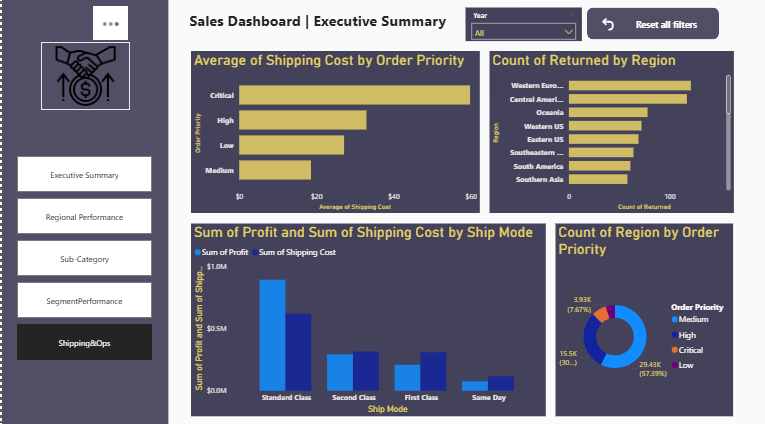

This screenshot's page, from the dashboard's own definition file:
{"tool":"powerbi","page":{"name":"Shipping&Ops","canvas":[1280,720],"ordinal":4},"visuals":[{"type":"shape","box":[975,16.7,220,53.3],"z":0},{"type":"shape","box":[0,0,277.6,1400.7],"z":1000},{"type":"pageNavigator","box":[25.7,264.3,225.7,341.4],"z":2000},{"type":"actionButton","box":[995,25,30,40],"z":3000},{"type":"textbox","box":[308.3,16.7,488.3,73.3],"z":4000},{"type":"textbox","box":[1038.8,31.2,134.8,30.3],"z":5000},{"type":"slicer","fields":{"Values":["Date Table.Year"]},"box":[771.4,18.6,194.3,55.7],"z":6000},{"type":"clusteredColumnChart","fields":{"Category":["Orders.Ship Mode"],"Y":["Sum(Orders.Profit)","Sum(Orders.Shipping Cost)"]},"box":[315.7,378.6,591.4,321.4],"z":7000},{"type":"barChart","fields":{"Y":["Avg(Orders.Shipping Cost)"],"Category":["Orders.Order Priority"]},"box":[315.7,90,481.4,270],"z":8000},{"type":"clusteredBarChart","fields":{"Category":["Returns.Region"],"Y":["CountNonNull(Returns.Returned)"]},"box":[811.4,90,407.1,270],"z":9000},{"type":"donutChart","fields":{"Category":["Orders.Order Priority"],"Y":["CountNonNull(Orders.Region)"]},"box":[922.9,378.6,295.7,321.4],"z":10000},{"type":"image","box":[64.3,75.7,148.6,112.9],"z":11000}]}

Visuals, with their boxes in screenshot pixels (x1, y1, x2, y2):
shape: region(586, 4, 718, 36)
shape: region(0, 0, 165, 423)
pageNavigator: region(13, 153, 149, 359)
actionButton: region(598, 9, 616, 33)
textbox: region(184, 4, 478, 48)
textbox: region(624, 13, 705, 31)
slicer - Date Table.Year: region(463, 5, 580, 39)
clusteredColumnChart - Orders.Ship Mode x Sum(Orders.Profit): region(188, 222, 545, 416)
barChart - Avg(Orders.Shipping Cost) x Orders.Order Priority: region(188, 48, 478, 211)
clusteredBarChart - Returns.Region x CountNonNull(Returns.Returned): region(487, 48, 732, 211)
donutChart - Orders.Order Priority x CountNonNull(Orders.Region): region(554, 222, 732, 416)
image: region(37, 40, 126, 108)
